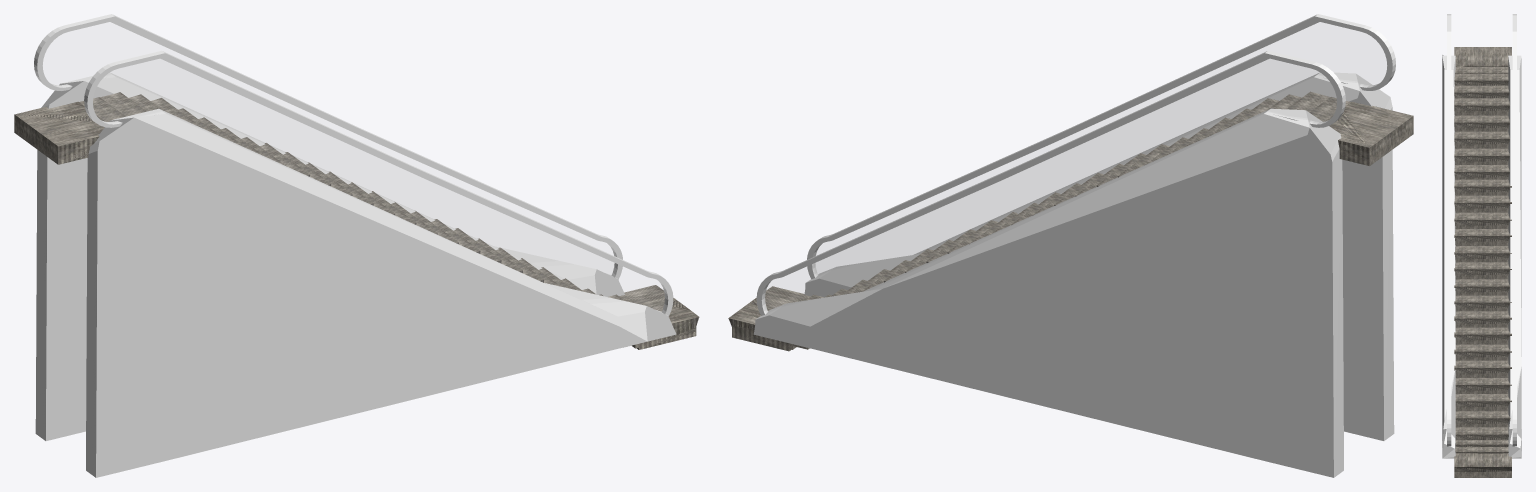
Rendered from mall_escalator_lane_optimised.glb.
3 views of the same model, side by side, from view 1: azimuth 30°, elevation 25°; view 2: azimuth 150°, elevation 25°; view 3: azimuth 270°, elevation 25° (orthographic). The views are drawn at different scales.
Visible parts, largest first — view 1: Cube.001_31, Cylinder.003_60, Cylinder.004_61, Cube.054_56, Cube.055_57; view 2: Cube.001_31, Cylinder.003_60, Cylinder.004_61, Cube.054_56, Cube.055_57; view 3: Cube.001_31, Cylinder.004_61, Cube.055_57, Cube.054_56, Cube.050_52, Cube.048_50, Cube.044_46, Cube.036_38, Cube.034_36, Cube.040_42, Cube.032_34, Cube.049_51 (+18 smaller).
Part boxes in pixels (x1,y1,x2,y2): Cube.001_31: (35, 72, 676, 477); Cylinder.003_60: (43, 22, 666, 312); Cylinder.004_61: (34, 14, 673, 316); Cube.054_56: (14, 101, 104, 164); Cube.055_57: (619, 285, 699, 349); Cube.001_31: (753, 72, 1394, 477); Cylinder.003_60: (764, 22, 1386, 311); Cylinder.004_61: (756, 14, 1395, 315); Cube.054_56: (1325, 102, 1413, 166); Cube.055_57: (728, 286, 810, 351); Cube.001_31: (1442, 55, 1521, 458); Cylinder.004_61: (1447, 14, 1516, 446); Cube.055_57: (1454, 453, 1511, 477); Cube.054_56: (1454, 47, 1511, 66); Cube.050_52: (1454, 98, 1509, 115); Cube.048_50: (1454, 131, 1509, 148); Cube.044_46: (1454, 195, 1511, 212); Cube.036_38: (1454, 327, 1511, 344); Cube.034_36: (1454, 360, 1511, 377); Cube.040_42: (1454, 262, 1511, 279); Cube.032_34: (1455, 394, 1511, 411); Cube.049_51: (1454, 115, 1509, 131).
Size of the model in its own units: 8.36 by 5.21 by 1.36.
Materials: 4 (1 with a texture image).
